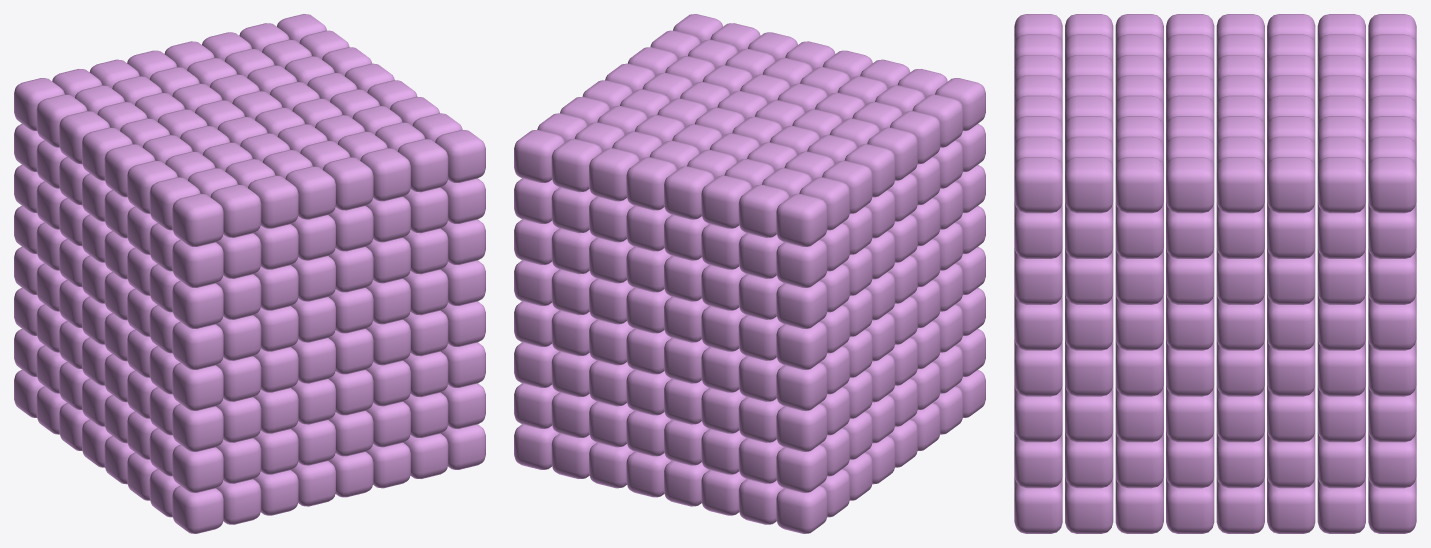
Rendered from Character.fbx.
3 renders of one model, left to right at view 1: azimuth 30°, elevation 25°; view 2: azimuth 150°, elevation 25°; view 3: azimuth 270°, elevation 25°, orthographic. The views are drawn at different scales.
Visible parts, largest first — view 1: Cube.449, Cube.001, Cube.193, Cube.321, Cube.385, Cube.065, Cube.129, Cube.257, Cube.450, Cube.453, Cube.455, Cube.451 (+157 smaller); view 2: Cube.505, Cube.057, Cube.249, Cube.377, Cube.441, Cube.121, Cube.185, Cube.313, Cube.506, Cube.509, Cube.511, Cube.507 (+157 smaller); view 3: Cube.480, Cube.488, Cube.464, Cube.472, Cube.496, Cube.504, Cube.456, Cube.512, Cube.200, Cube.256, Cube.144, Cube.152 (+108 smaller).
Part boxes in pixels (x1,y1,x2,y2): Cube.449: [172, 194, 223, 246]; Cube.001: [172, 485, 223, 533]; Cube.193: [172, 362, 223, 410]; Cube.321: [172, 280, 223, 328]; Cube.385: [172, 239, 223, 287]; Cube.065: [172, 444, 223, 492]; Cube.129: [172, 403, 223, 451]; Cube.257: [172, 321, 223, 369]; Cube.450: [210, 184, 261, 237]; Cube.453: [323, 157, 373, 210]; Cube.455: [397, 139, 448, 192]; Cube.451: [248, 175, 298, 228]; Cube.505: [776, 194, 827, 246]; Cube.057: [776, 485, 827, 533]; Cube.249: [776, 362, 827, 410]; Cube.377: [776, 280, 827, 328]; Cube.441: [776, 239, 827, 287]; Cube.121: [776, 444, 827, 492]; Cube.185: [776, 403, 827, 451]; Cube.313: [776, 321, 827, 369]; Cube.506: [738, 184, 789, 237]; Cube.509: [626, 157, 676, 210]; Cube.511: [551, 139, 602, 192]; Cube.507: [701, 175, 751, 228]; Cube.480: [1166, 157, 1214, 213]; Cube.488: [1216, 157, 1264, 213]; Cube.464: [1065, 157, 1113, 213]; Cube.472: [1115, 157, 1163, 213]; Cube.496: [1267, 157, 1315, 213]; Cube.504: [1317, 157, 1365, 213]; Cube.456: [1014, 157, 1062, 213]; Cube.512: [1368, 157, 1416, 213]; Cube.200: [1014, 345, 1062, 396]; Cube.256: [1368, 345, 1416, 396]; Cube.144: [1065, 391, 1113, 442]; Cube.152: [1115, 391, 1163, 442].
Bounding box in the file's own units: 229 × 239 × 239.
